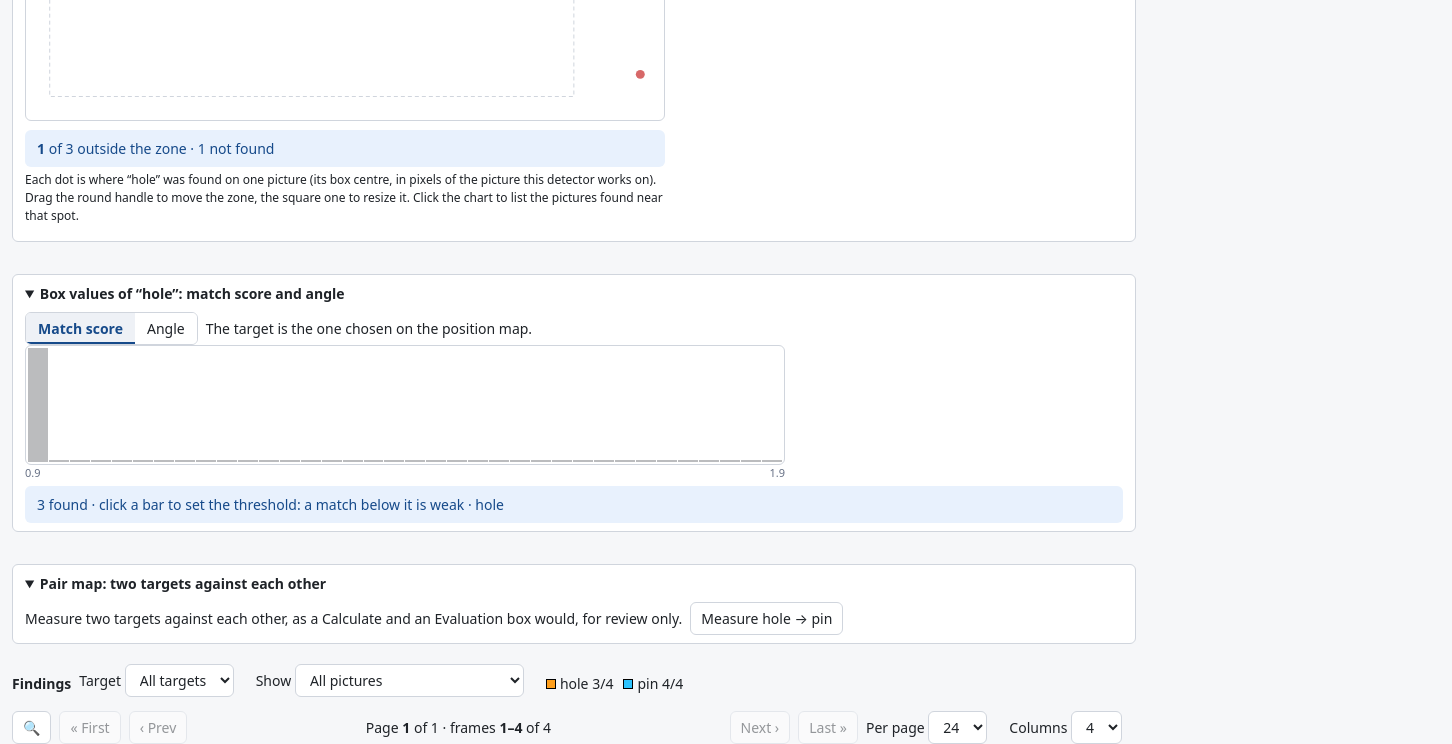
Detector page: the threshold can decide, then the weak matches count as not found
The image size is (1452, 744).
(page scrolled)
Expected: the checkbox labelled "Below it counts as not found" is not shown
Step 1. Click the button named "Use 0.91 as threshold" → (38, 405), box top-left (28, 348), bottom-right (48, 462)
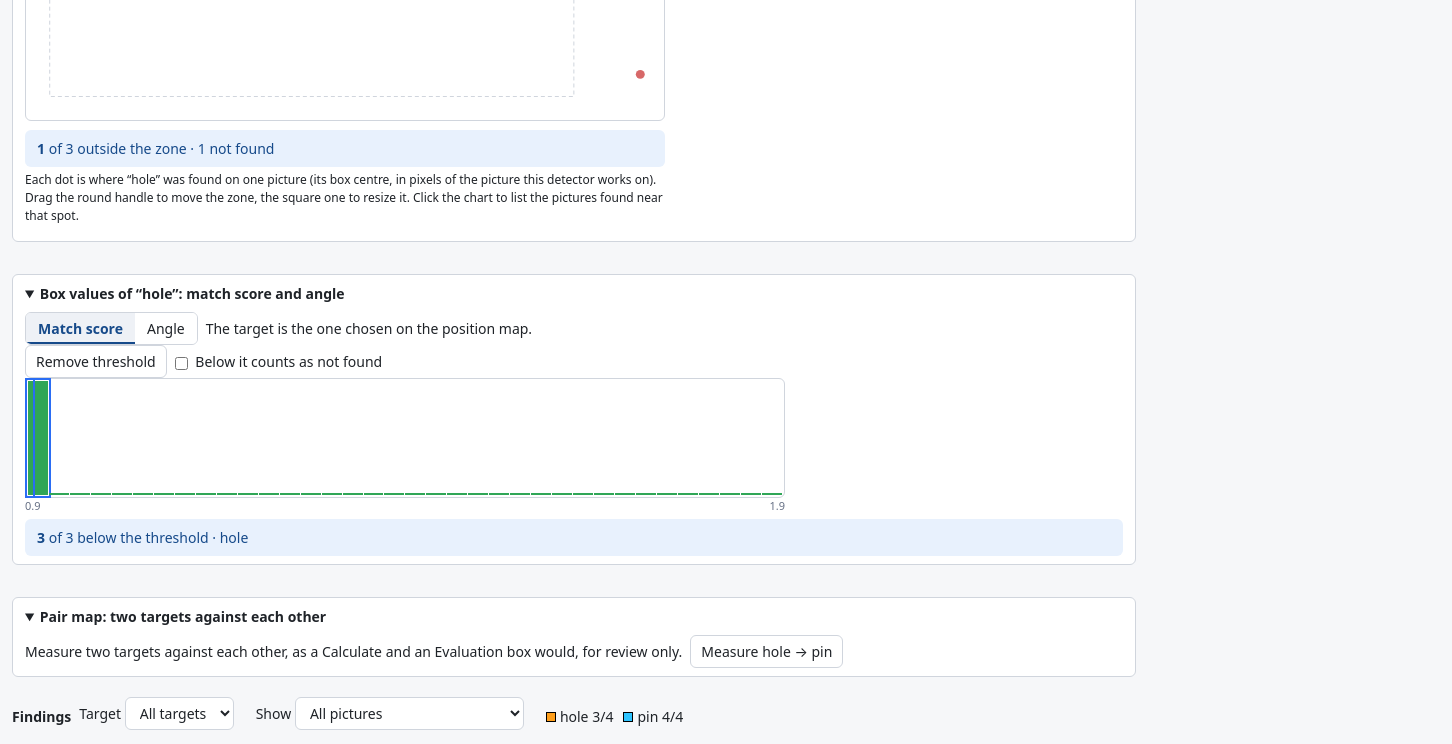
Expected: the checkbox labelled "Below it counts as not found" is not checked
Step 2. Click the checkbox labelled "Below it counts as not found" → (181, 363), box top-left (175, 357), bottom-right (188, 370)
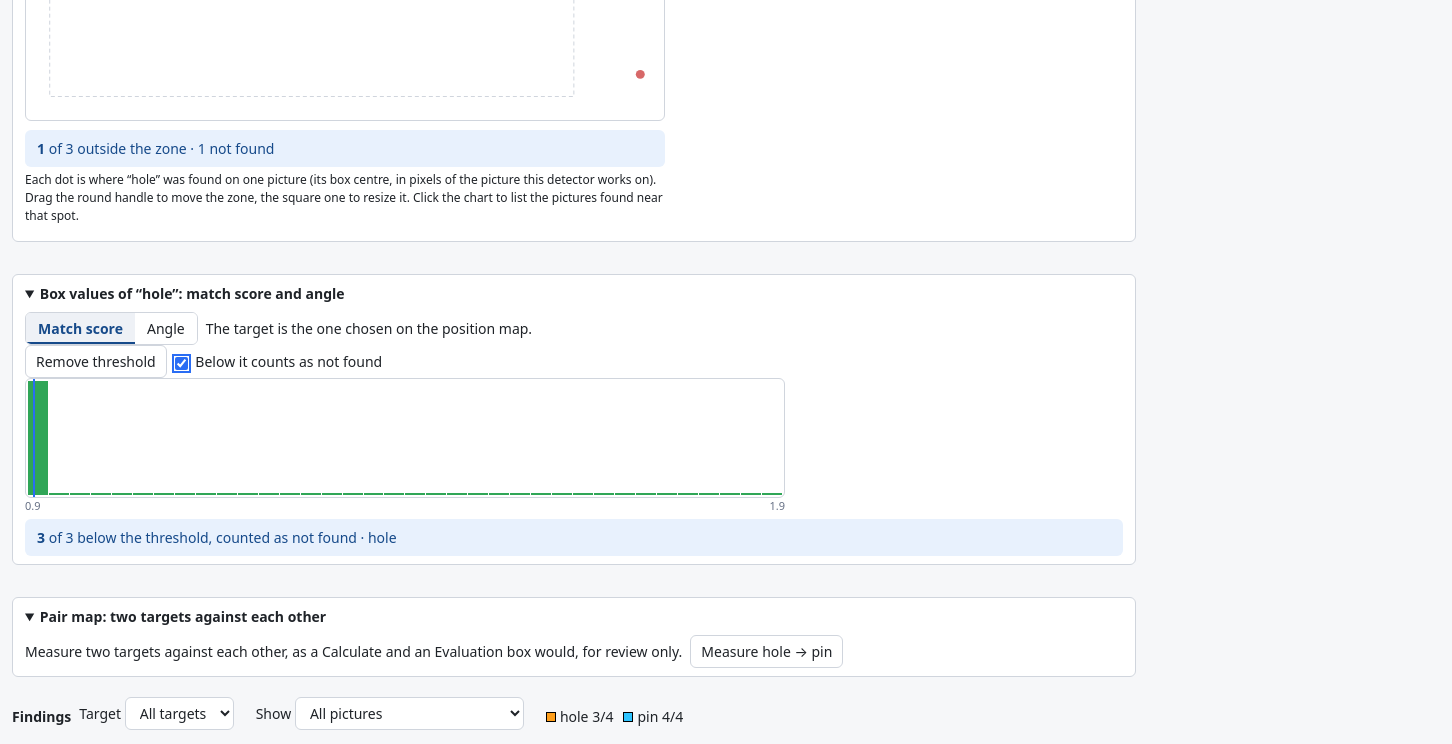
Expected: the message with test id "box-value-count" reads "3 of 3 below the threshold, counted as not found · hole", top-left (25, 519), bottom-right (1123, 556)
